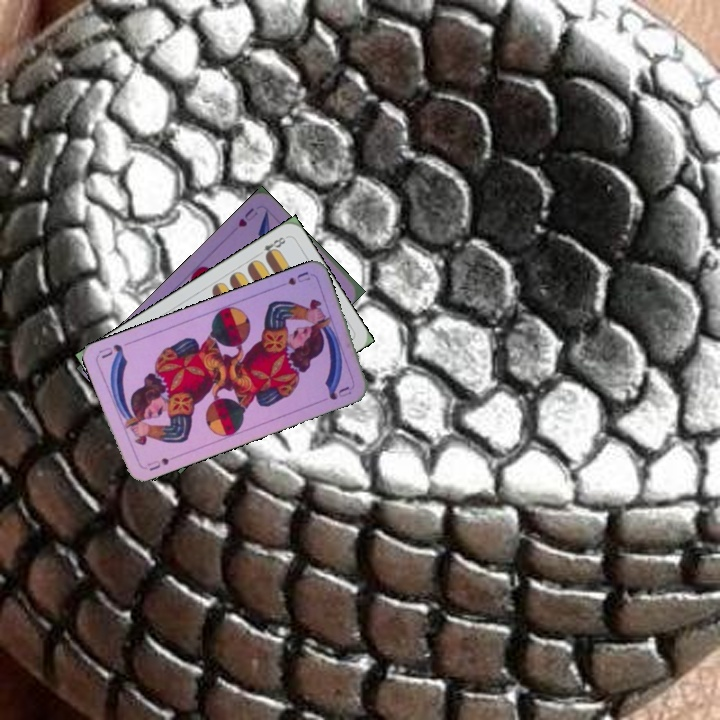E8: (259, 232, 290, 261)
HU: (234, 204, 261, 230)
SU: (273, 267, 313, 291), (143, 453, 172, 474)
